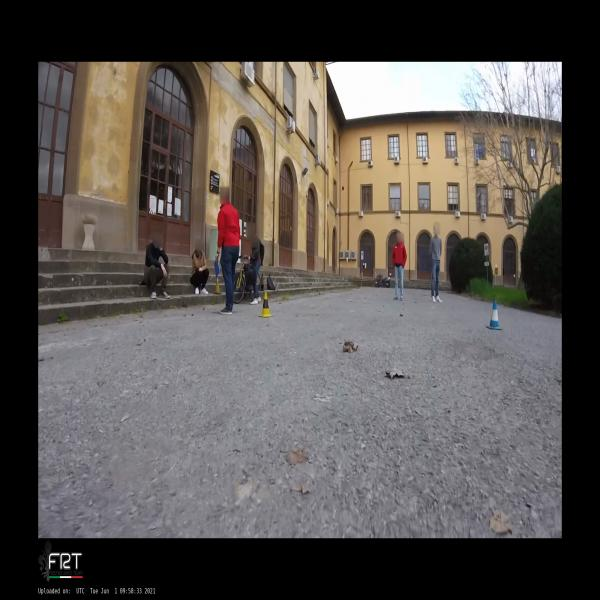blue_cone: (486, 299, 502, 330)
unknown_cone: (212, 278, 222, 294)
yellow_cone: (258, 291, 274, 318)
